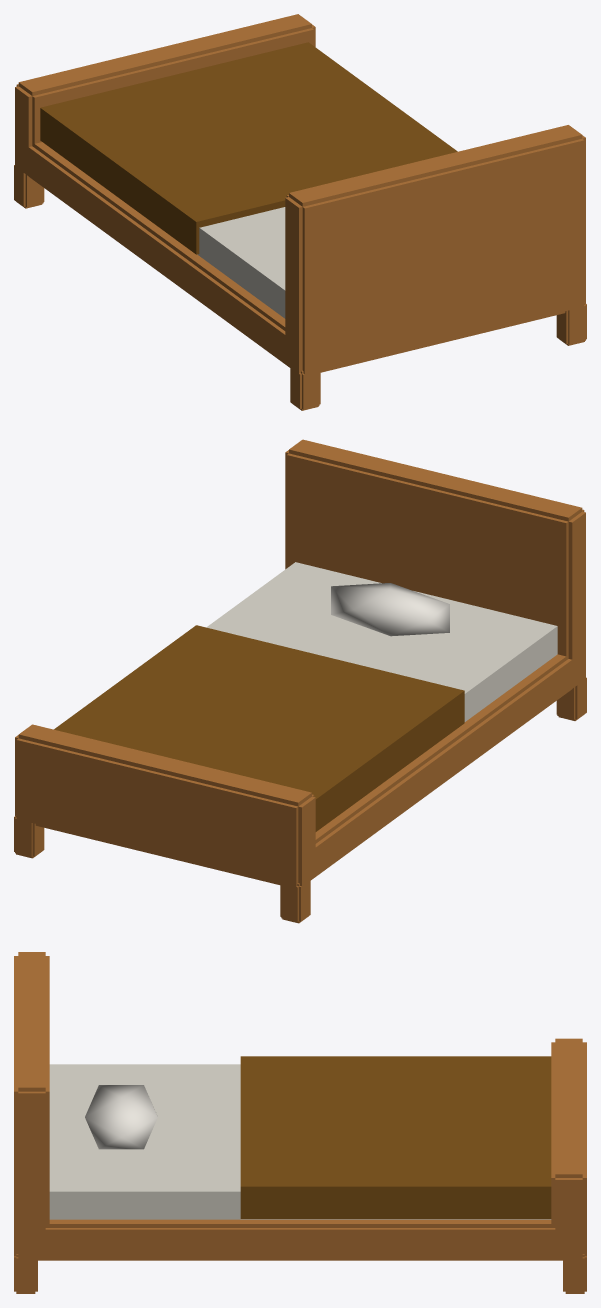
File: lihzahrd_bed_v0.glb
The picture shows the model from 3 angles, top to bottom: view 1: azimuth 30°, elevation 25°; view 2: azimuth 150°, elevation 25°; view 3: azimuth 270°, elevation 25°; orthographic projection.
Visible parts, largest first — view 1: lihzahrd_bed_v0; view 2: lihzahrd_bed_v0; view 3: lihzahrd_bed_v0.
Part boxes in pixels (x1,y1,x2,y2): lihzahrd_bed_v0: (14,14,586,410); lihzahrd_bed_v0: (14,439,586,923); lihzahrd_bed_v0: (14,952,586,1293).
Size of the model in its own units: 1.38 by 0.95 by 2.4.
